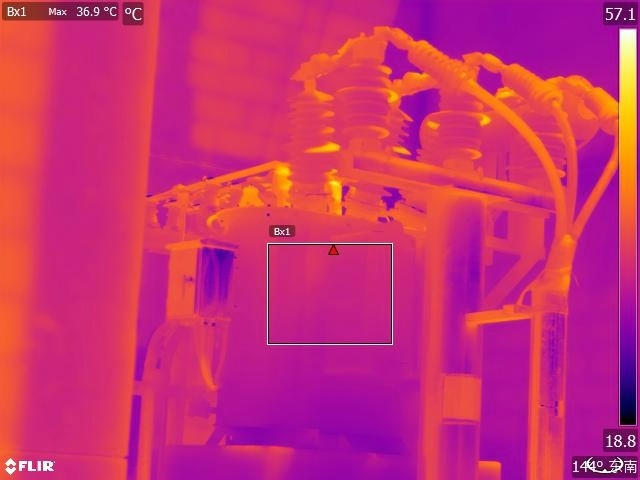post insulator: (280, 82, 338, 182), (337, 71, 404, 146), (512, 101, 569, 182), (432, 87, 488, 166), (401, 124, 440, 207), (387, 96, 417, 149)
tube: (405, 34, 477, 94), (493, 54, 557, 113), (583, 80, 619, 137)
